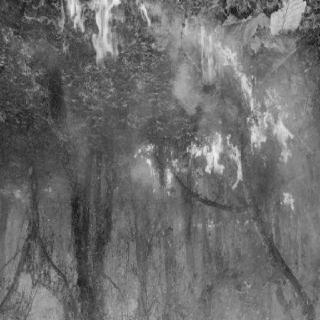Fire: (64, 1, 254, 131), (146, 110, 302, 252)
